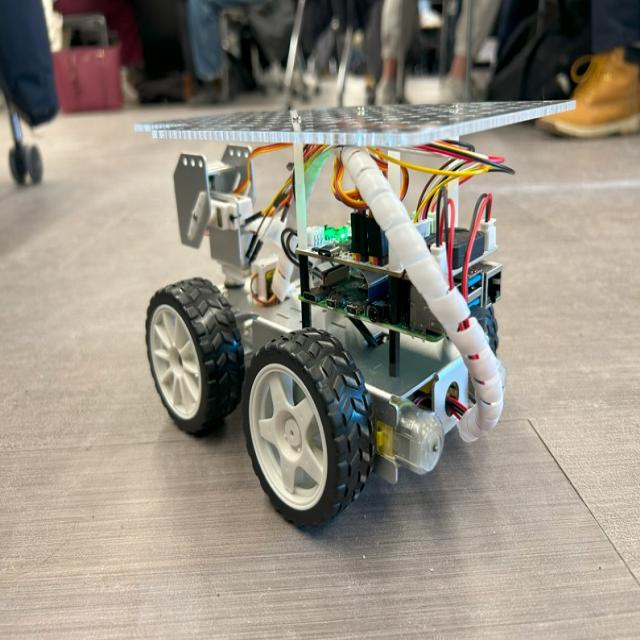vehicle: (129, 86, 586, 549)
